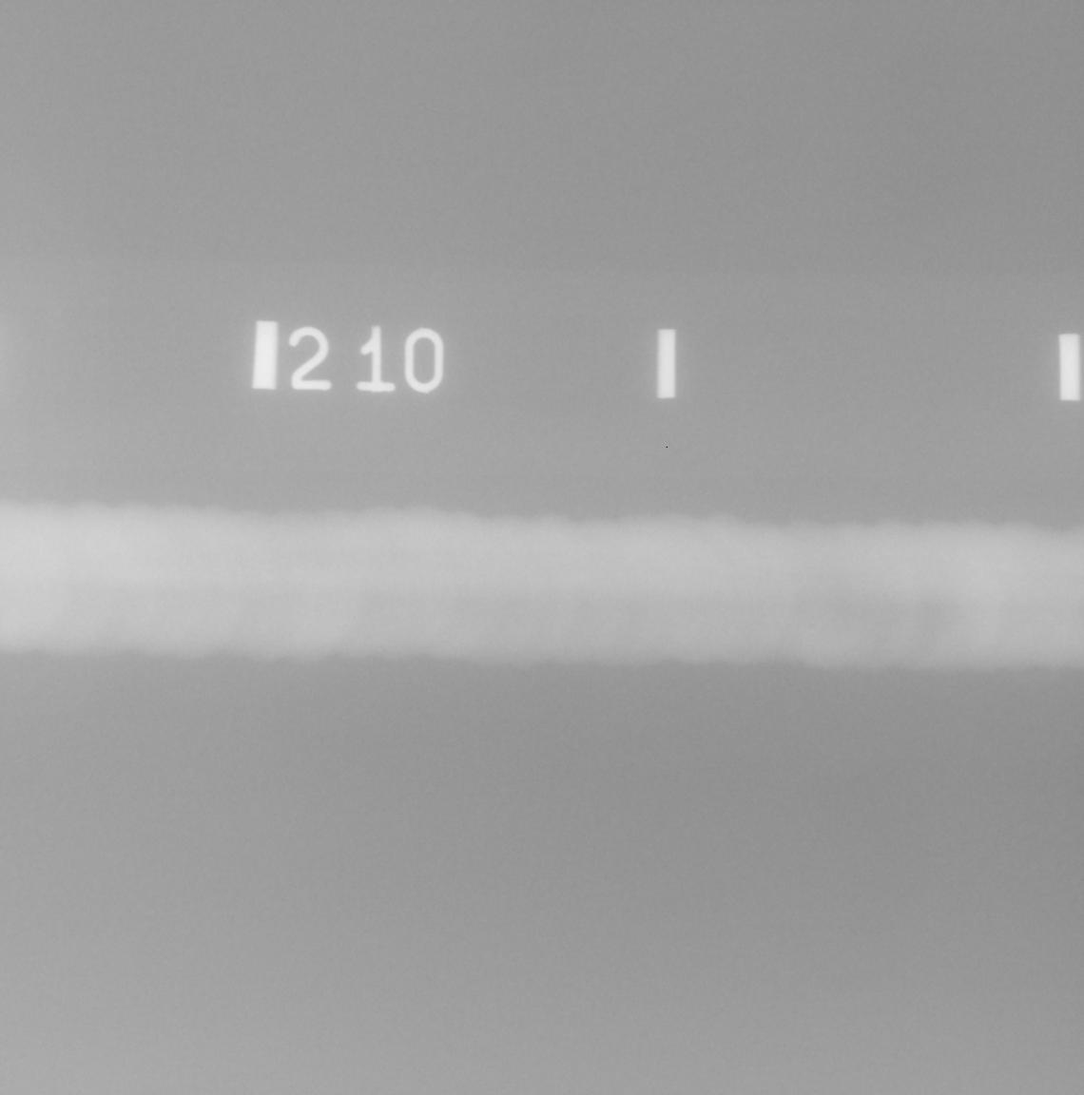Pore/Porosity: (810, 623, 815, 628)
